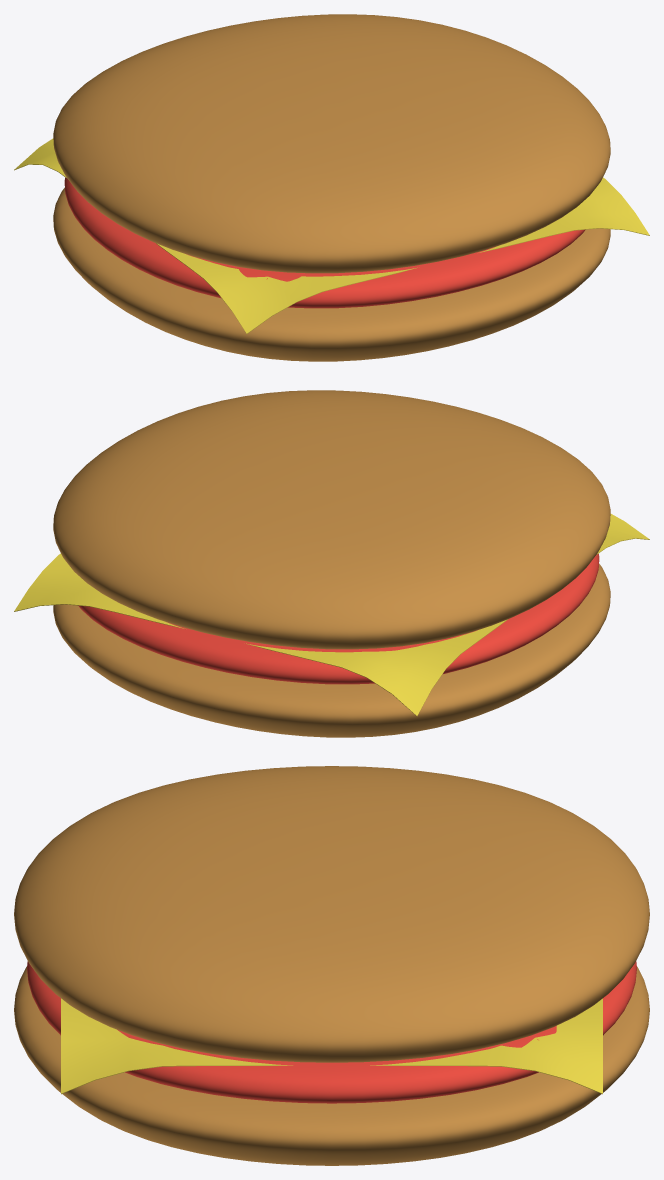
Rendered from hamburger.glb.
3 views of the same model, one above another, from view 1: azimuth 30°, elevation 25°; view 2: azimuth 150°, elevation 25°; view 3: azimuth 270°, elevation 25° (orthographic). The views are drawn at different scales.
Parts seen in each view (by area): view 1: Cube.002, Cube, Cube.001, Plane; view 2: Cube.002, Cube, Cube.001, Plane; view 3: Cube.002, Cube, Cube.001, Plane.
Part boxes in pixels (bbox=[...]): Cube.002: bbox=[53, 14, 610, 273]; Cube: bbox=[53, 187, 610, 361]; Cube.001: bbox=[64, 177, 585, 308]; Plane: bbox=[14, 138, 649, 333]; Cube.002: bbox=[53, 390, 610, 649]; Cube: bbox=[53, 563, 610, 737]; Cube.001: bbox=[78, 554, 599, 684]; Plane: bbox=[14, 514, 649, 716]; Cube.002: bbox=[14, 766, 649, 1062]; Cube: bbox=[14, 966, 649, 1165]; Cube.001: bbox=[27, 961, 636, 1103]; Plane: bbox=[61, 998, 602, 1094].
Size of the model in its own units: 9.06 by 3.54 by 9.06.
